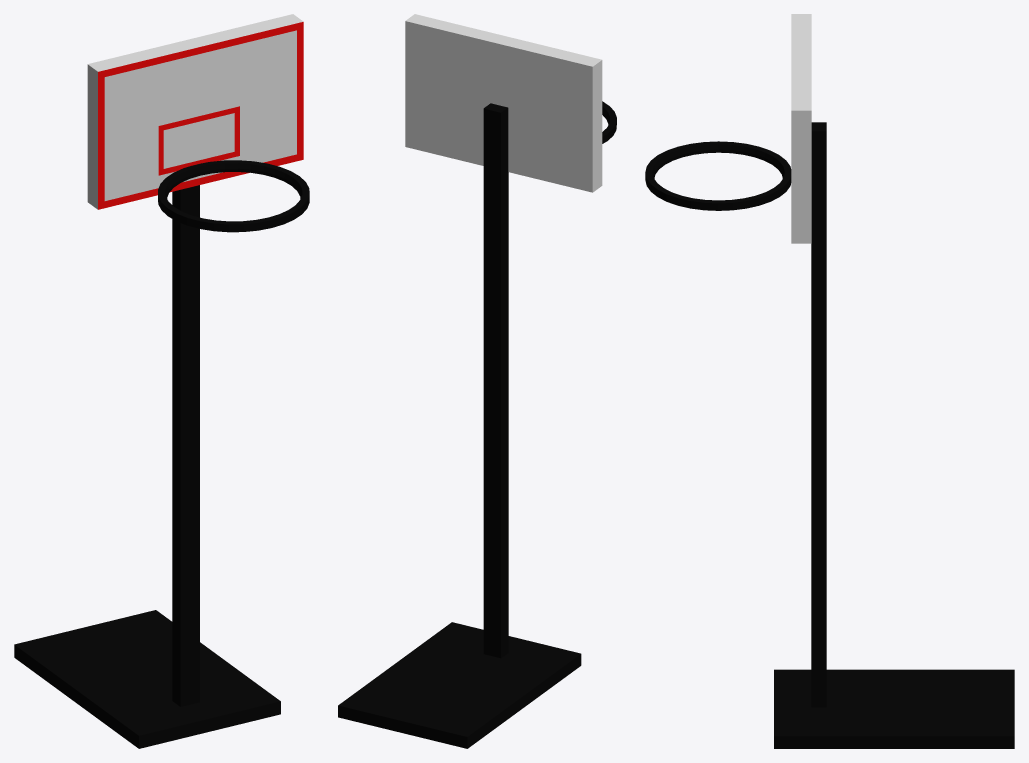
Rendered from basketballhoop.fbx.
3 renders of one model, left to right at view 1: azimuth 30°, elevation 25°; view 2: azimuth 150°, elevation 25°; view 3: azimuth 270°, elevation 25°, orthographic. The views are drawn at different scales.
Parts seen in each view (by area): view 1: Cube.002, Cube, Cube.001, Cylinder; view 2: Cube.002, Cube, Cube.001; view 3: Cube, Cube.001, Cube.002, Cylinder.
Part boxes in pixels (x1,y1,x2,y2): Cube.002: (87, 14, 303, 209); Cube: (14, 610, 280, 748); Cube.001: (172, 185, 199, 706); Cylinder: (158, 160, 309, 232); Cube.002: (405, 14, 602, 192); Cube: (338, 622, 581, 748); Cube.001: (483, 103, 508, 658); Cube: (774, 669, 1014, 748); Cube.001: (811, 122, 826, 707); Cube.002: (791, 14, 811, 243); Cylinder: (645, 141, 791, 210).
Size of the model in its own units: 312 by 983 by 504.
